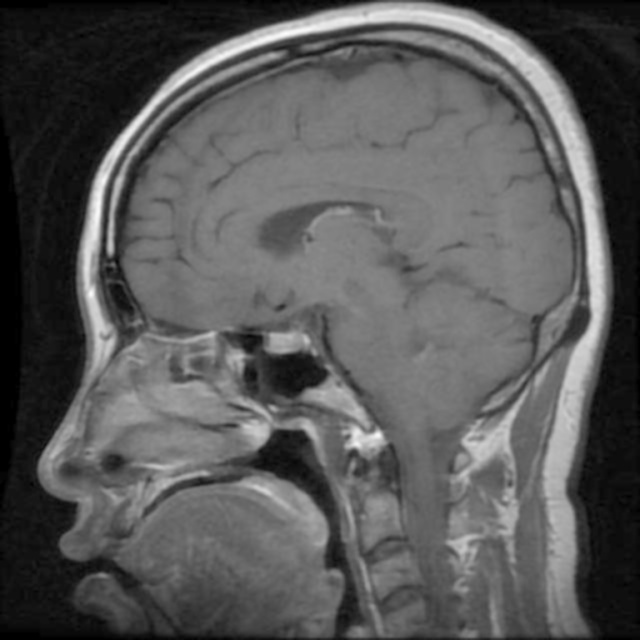no tumor: (260, 324, 314, 356)
